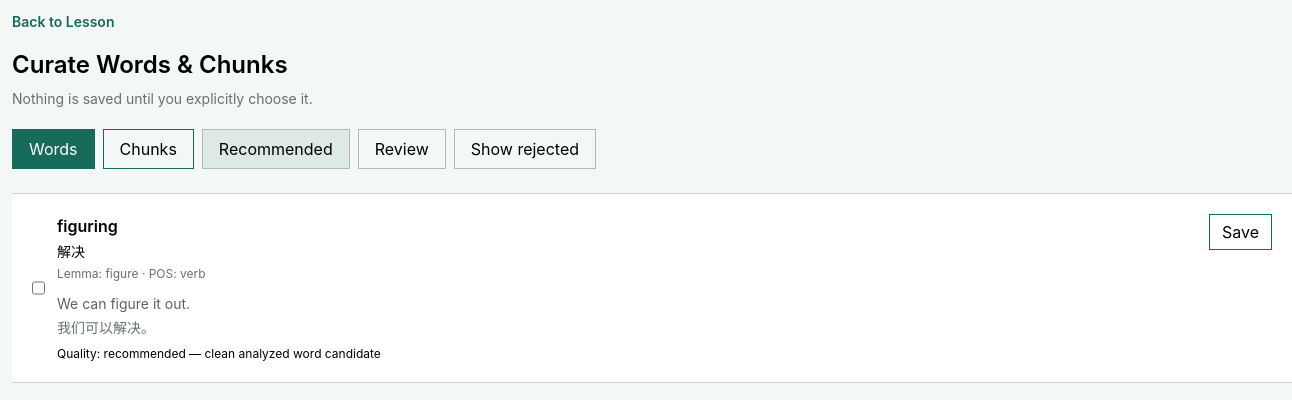
Study curation › saves one explicitly and marks repeated actions as saved
The image size is (1292, 400).
Click the button "Save".
click(1240, 232)  # box [1209, 214, 1272, 250]
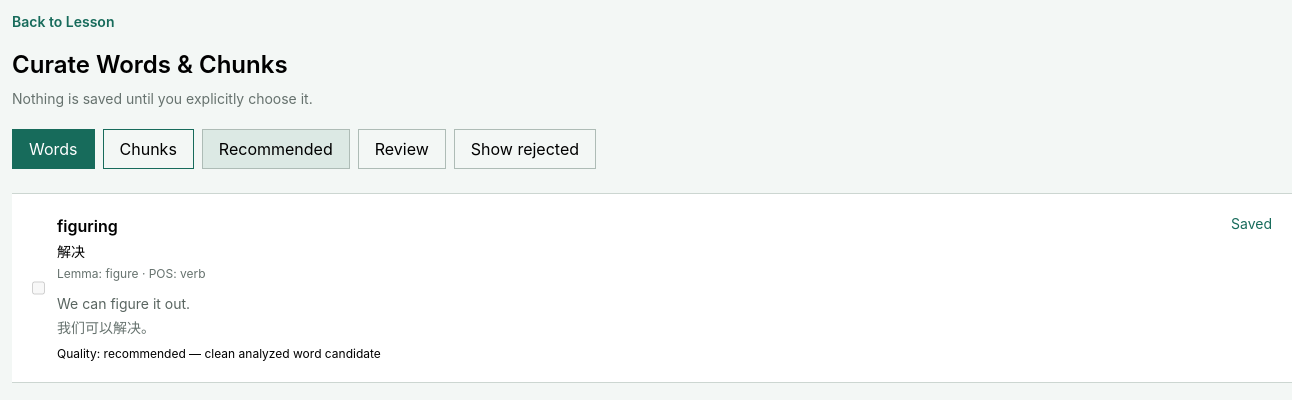
Now the text "Saved" is shown, box [1231, 215, 1272, 232]
